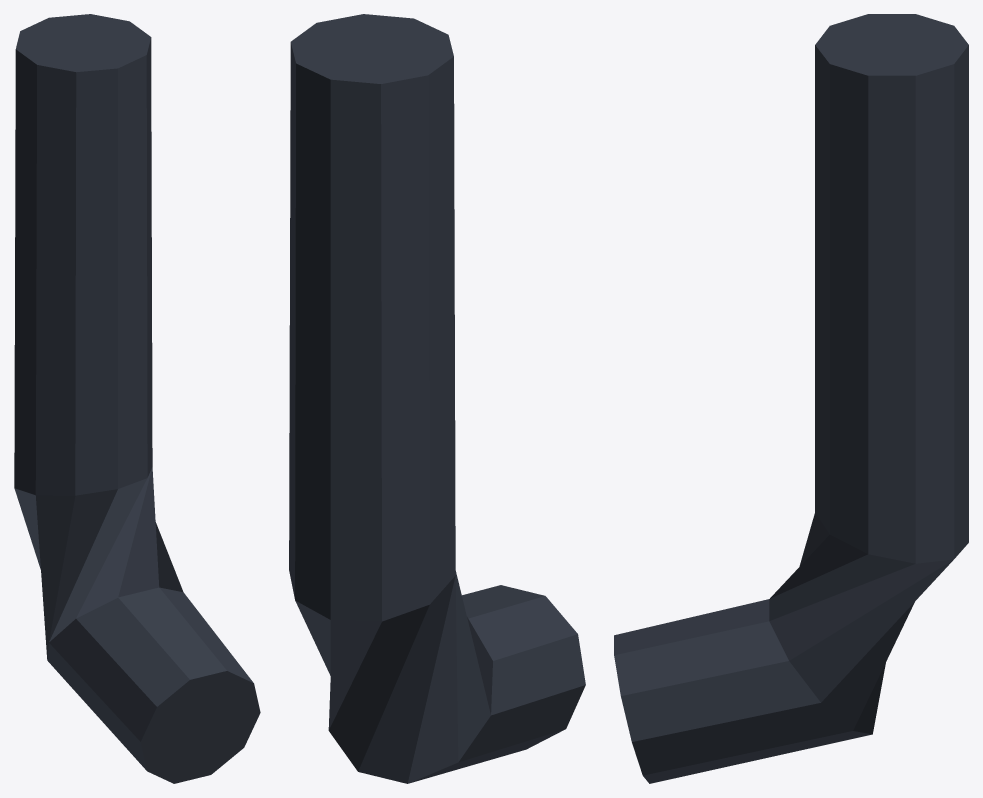
File: drain_shoe.glb
The picture shows the model from 3 angles, left to right: view 1: azimuth 30°, elevation 25°; view 2: azimuth 150°, elevation 25°; view 3: azimuth 270°, elevation 25°; orthographic projection. The views are drawn at different scales.
Visible parts, largest first — view 1: drain_shoe; view 2: drain_shoe; view 3: drain_shoe.
Part boxes in pixels (x1,y1,x2,y2): drain_shoe: [14, 14, 260, 783]; drain_shoe: [289, 14, 585, 783]; drain_shoe: [614, 14, 968, 783].
Size of the model in its own units: 0.1441 by 0.68 by 0.3.
1 material, 1 textured.
